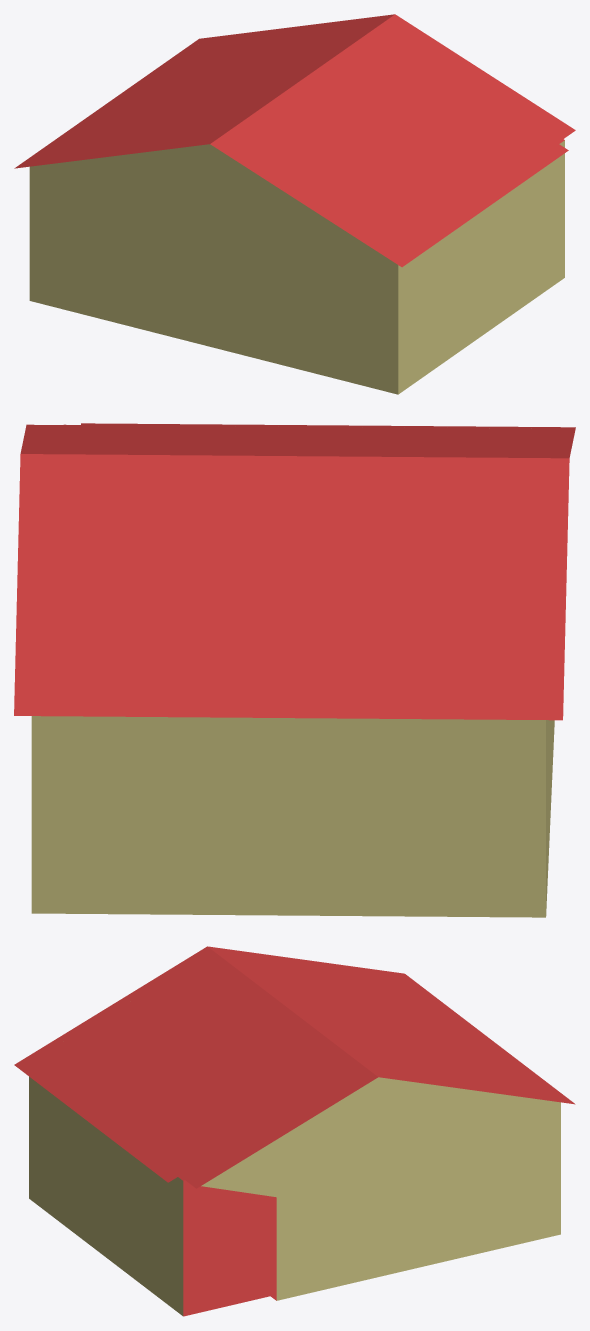
3 renders of one model, top to bottom at view 1: azimuth 30°, elevation 25°; view 2: azimuth 150°, elevation 25°; view 3: azimuth 270°, elevation 25°, orthographic. The views are drawn at different scales.
Bounding box in the file's own units: 34.98 × 37.85 × 15.25.
